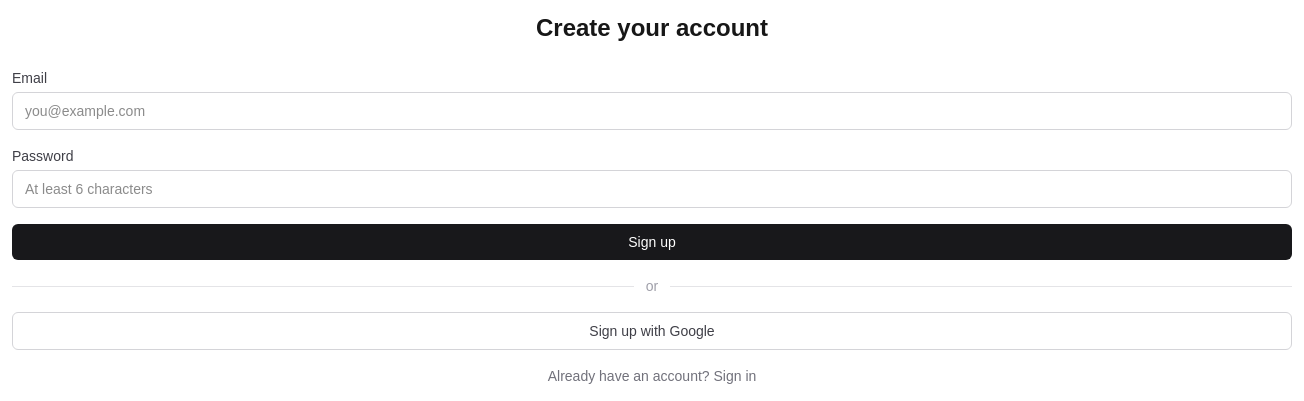
SignupPage › shows a success message after signing up
Step 1. Type "new@example.com" into the field with placeholder "you@example.com" → (652, 111), box [12, 92, 1292, 130]
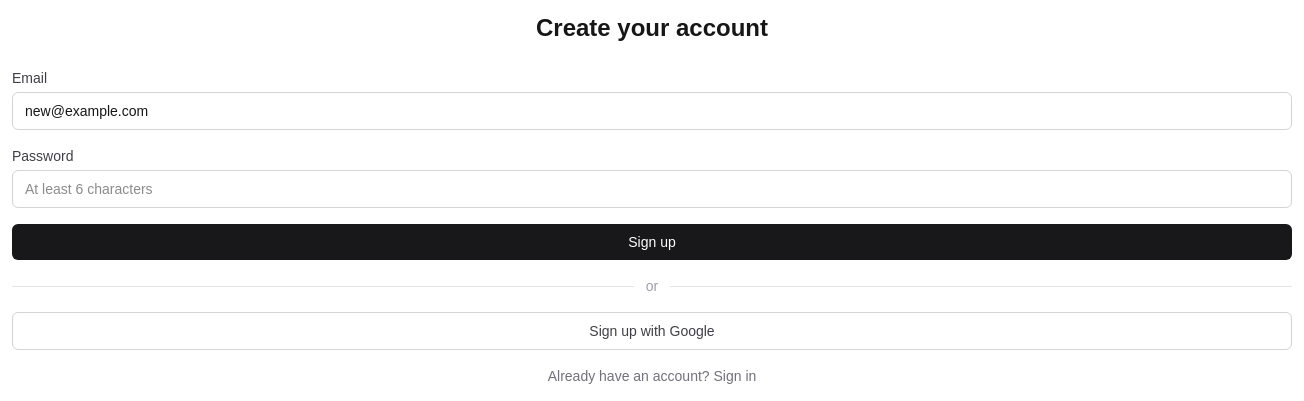
Step 2. Type "password123" into the password field with placeholder "At least 6 characters" → (652, 189), box [12, 170, 1292, 208]
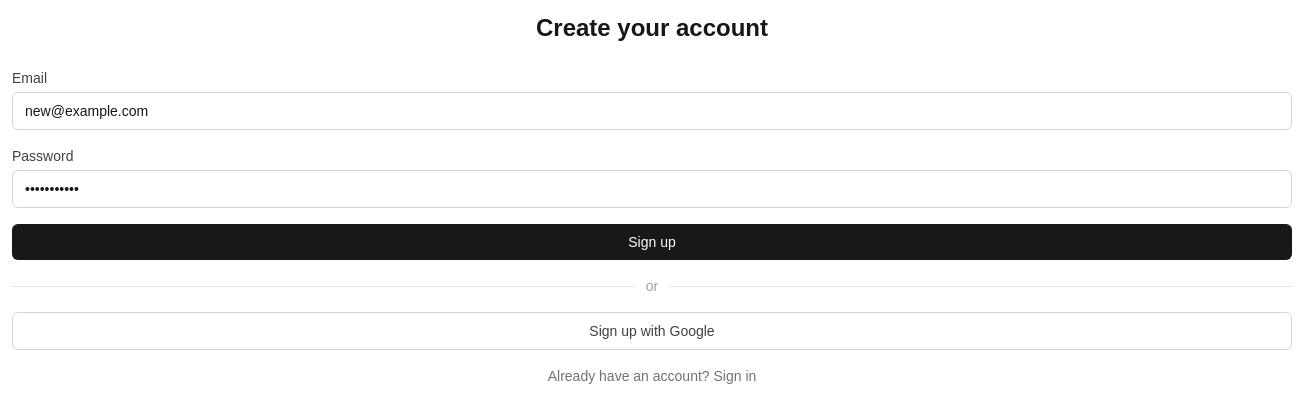
Step 3. Click the button "Sign up" → (652, 242), box [12, 224, 1292, 260]
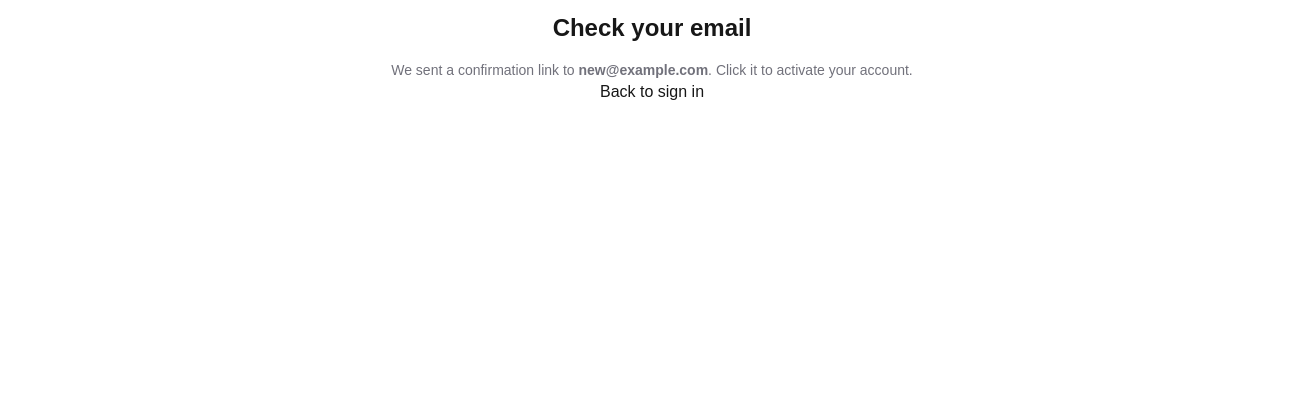
Check: the heading "Check your email" is shown, box [553, 14, 751, 41]
Check: the text "new@example.com" is shown, box [578, 62, 708, 78]
